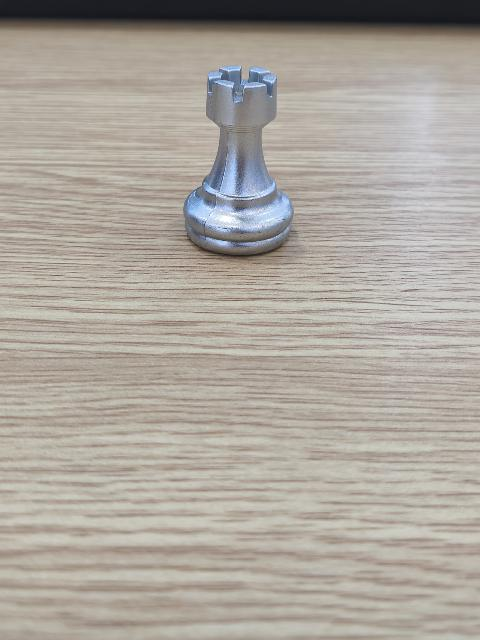white_rook: (186, 61, 291, 260)
